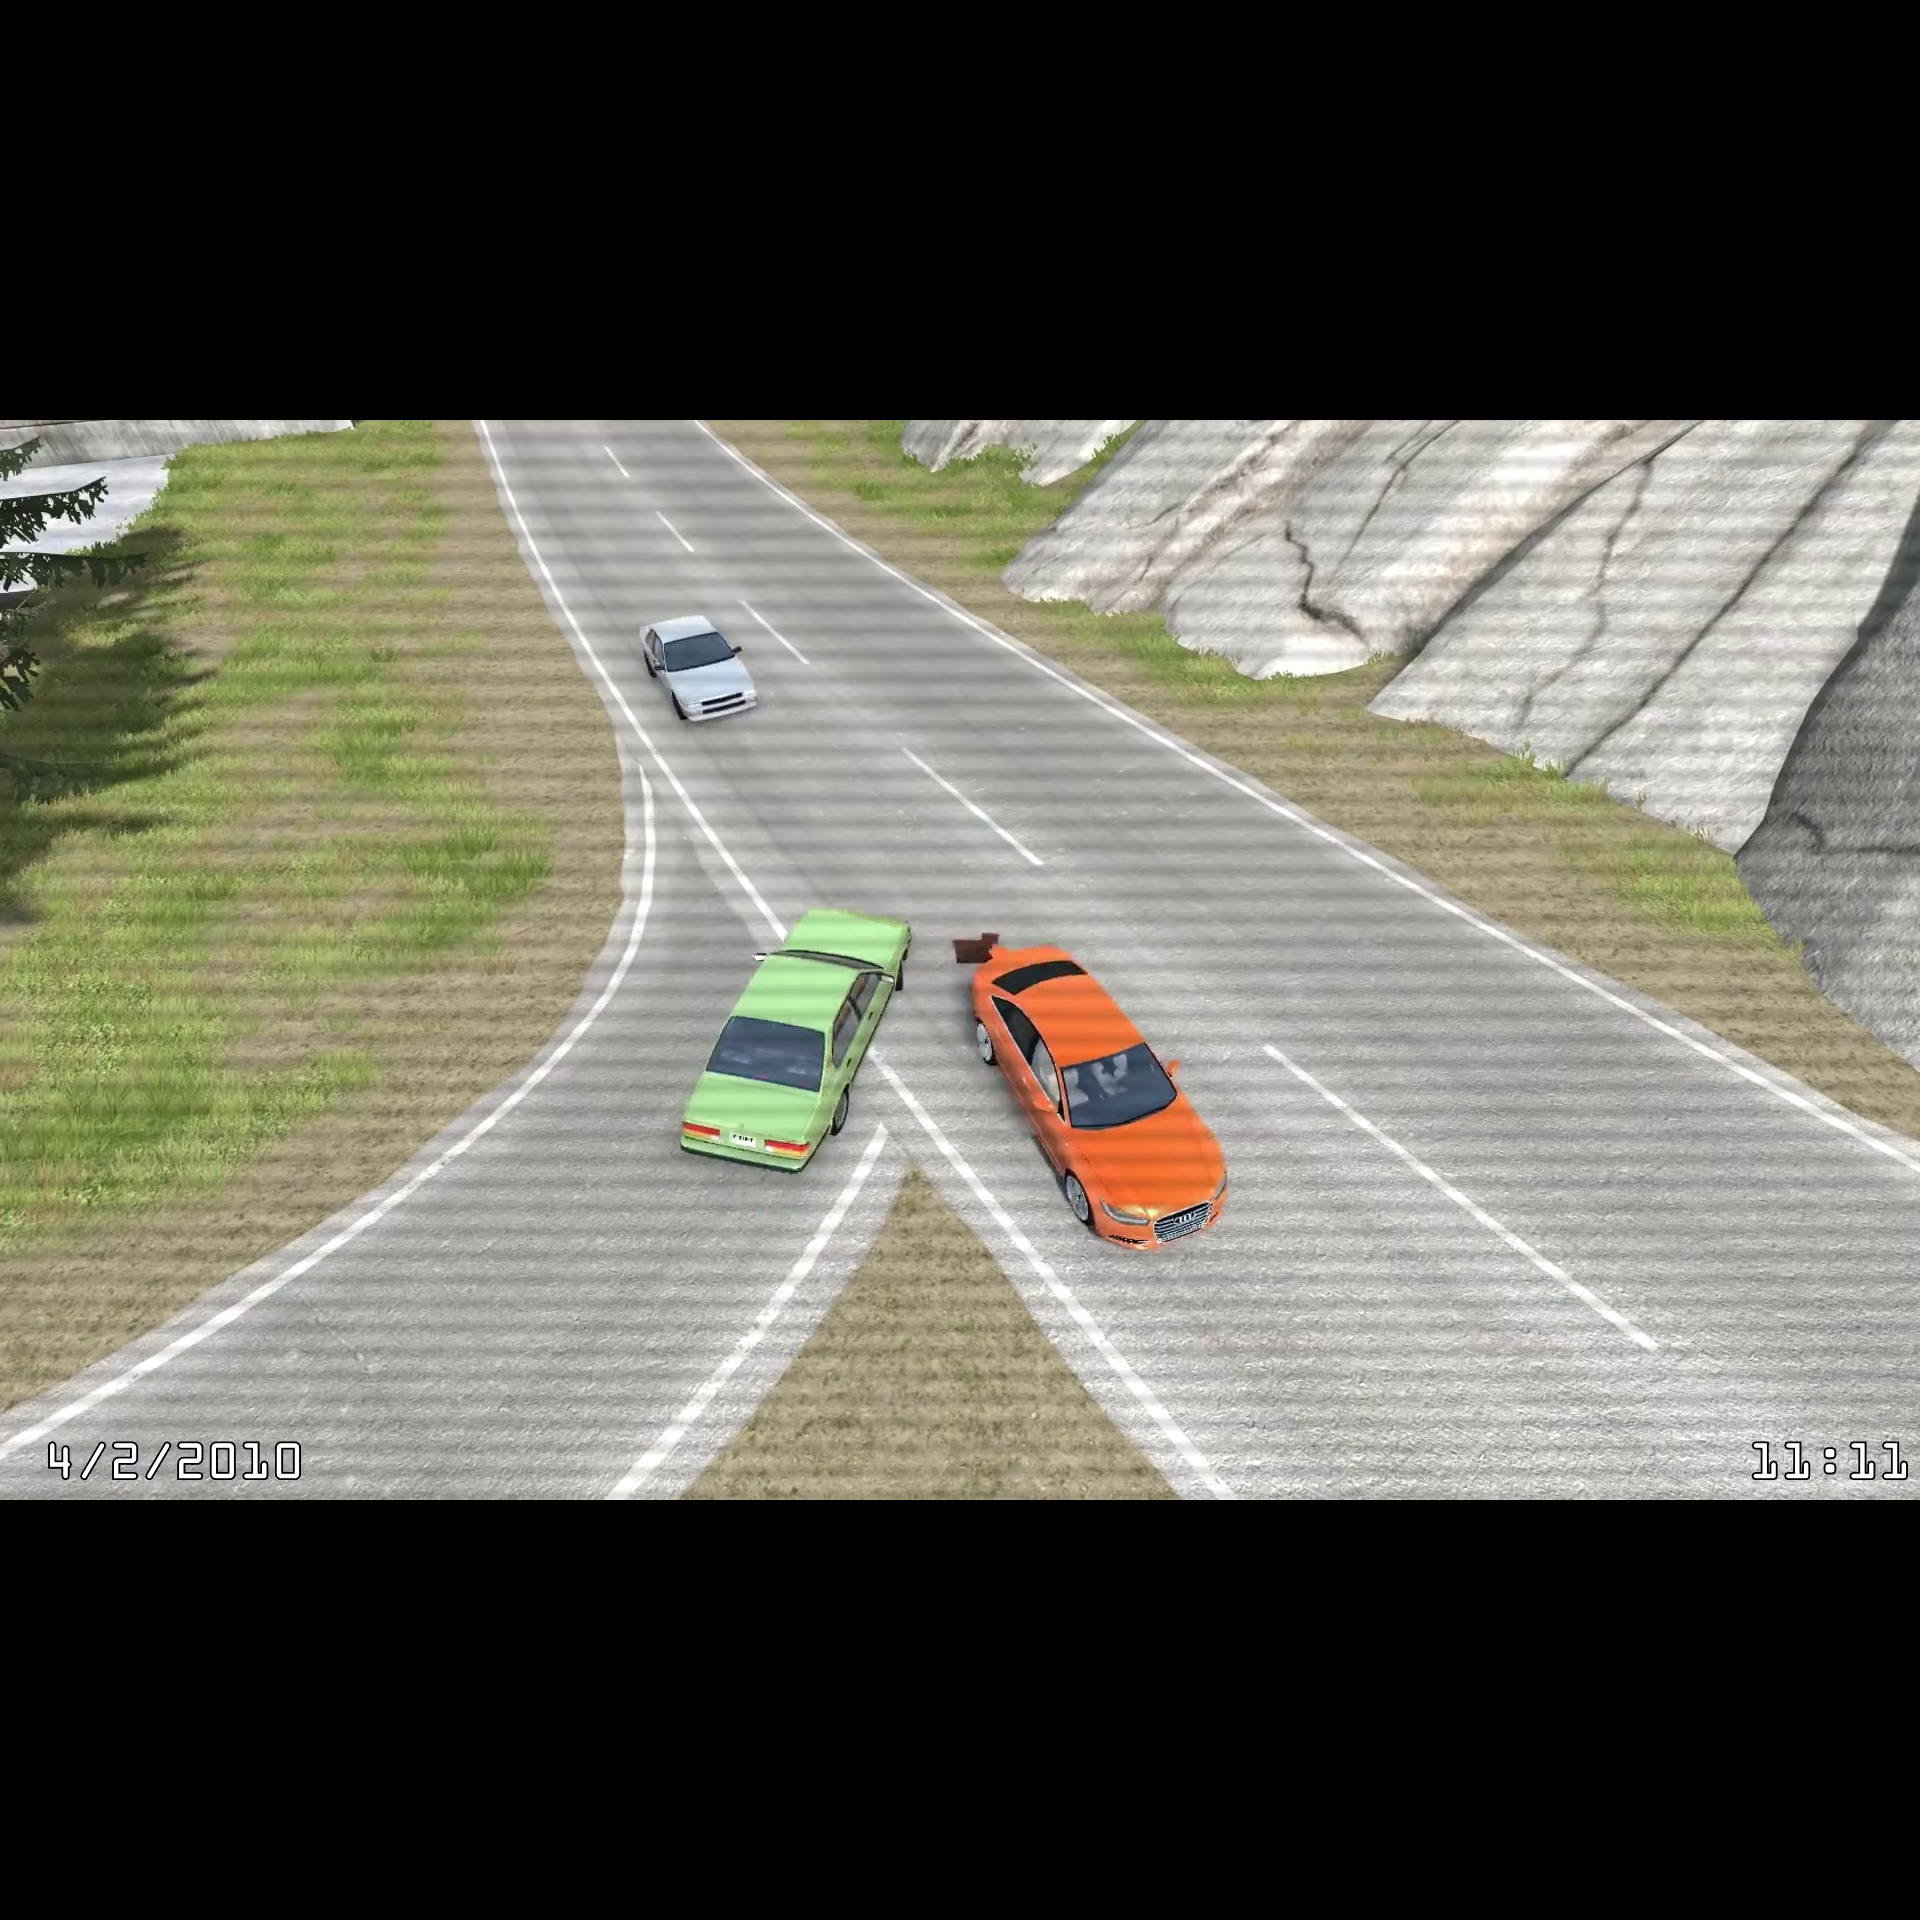vehicle: (955, 934, 1234, 1261), (675, 898, 920, 1182), (628, 605, 763, 730)
